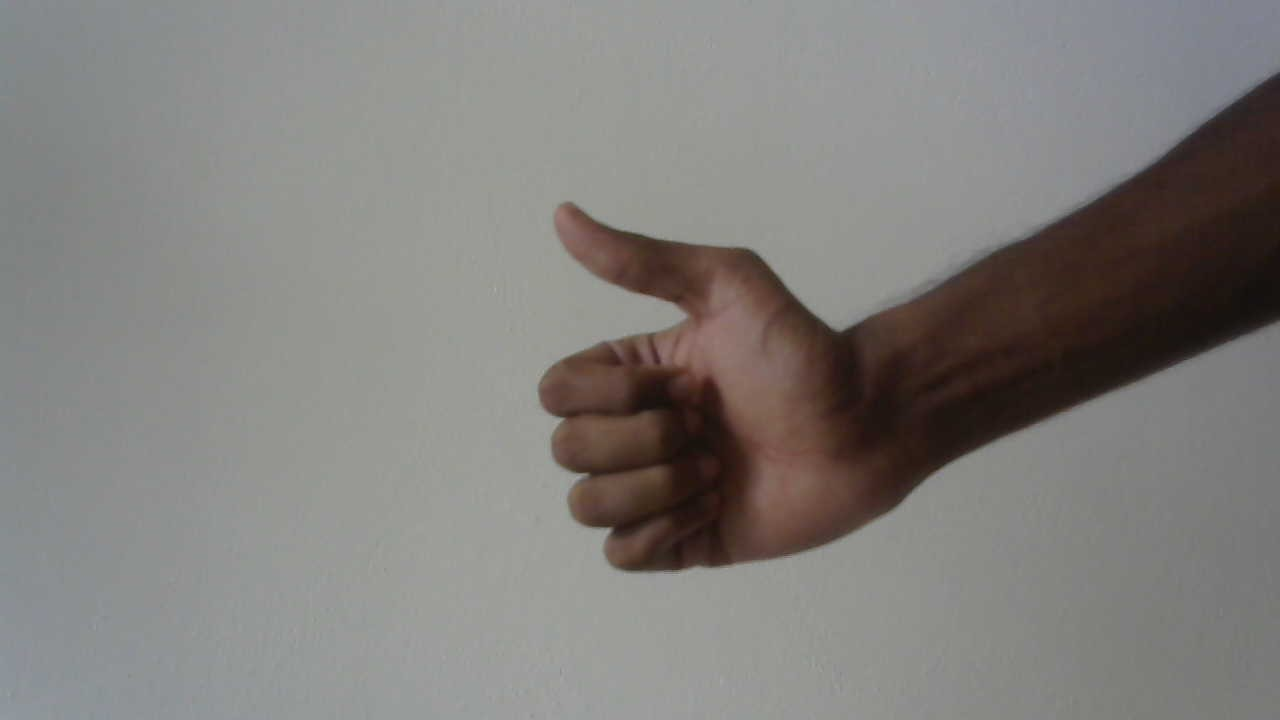thumbsup: (522, 179, 926, 589)
